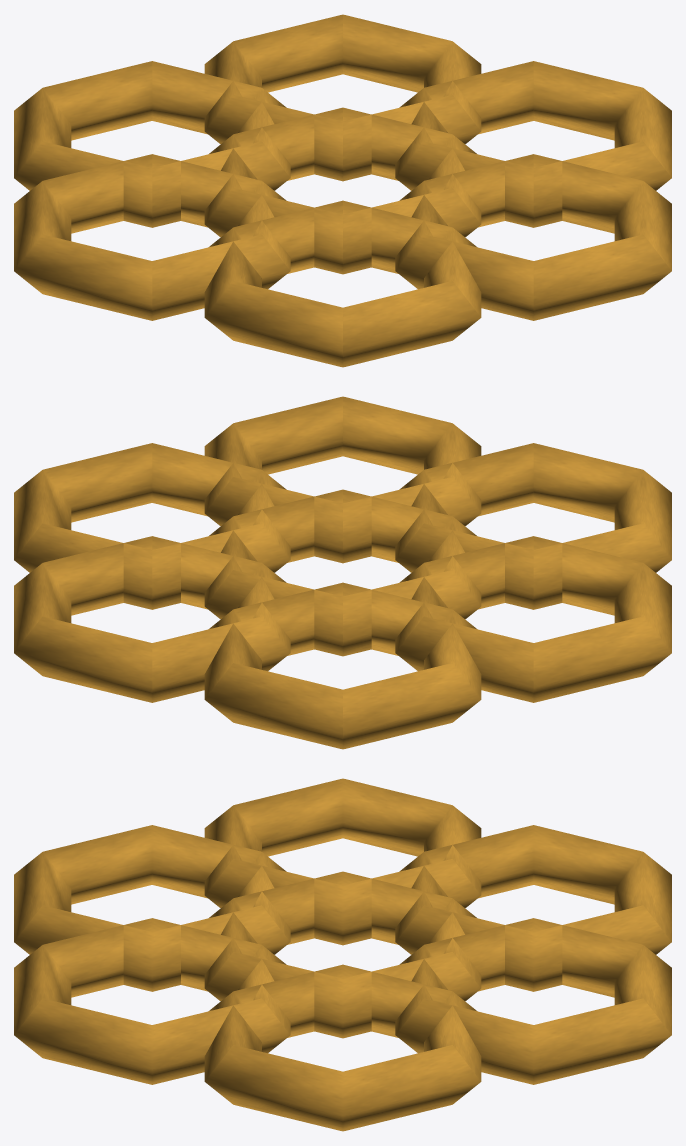
The model's file is item-Honeycomb.fbx.
The picture shows the model from 3 angles, top to bottom: view 1: azimuth 30°, elevation 25°; view 2: azimuth 150°, elevation 25°; view 3: azimuth 270°, elevation 25°; orthographic projection.
Parts seen in each view (by area): view 1: item-Honeycomb__Geometry; view 2: item-Honeycomb__Geometry; view 3: item-Honeycomb__Geometry.
Boxes of the visible parts, bbox=[...] form: item-Honeycomb__Geometry: bbox=[14, 14, 671, 367]; item-Honeycomb__Geometry: bbox=[14, 396, 671, 749]; item-Honeycomb__Geometry: bbox=[14, 778, 671, 1131].
Size of the model in its own units: 0.414 by 0.036 by 0.3585.
1 material, 1 textured.
